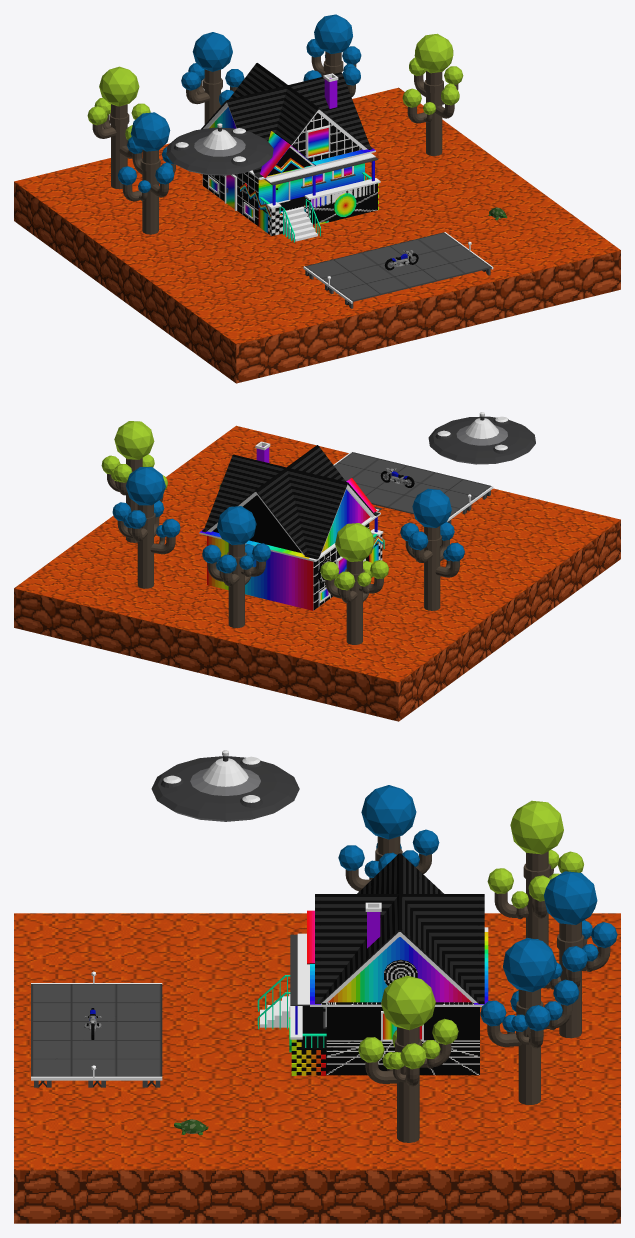
The picture shows the model from 3 angles, top to bottom: view 1: azimuth 30°, elevation 25°; view 2: azimuth 150°, elevation 25°; view 3: azimuth 270°, elevation 25°; orthographic projection. The views are drawn at different scales.
Visible parts, largest first — view 1: Cube.001, Cube.1320, OBJRANDOM_UFO; view 2: Cube.001, Cube.1320, OBJRANDOM_UFO; view 3: Cube.001, Cube.1320, OBJRANDOM_UFO.
Part boxes in pixels (x1,y1,x2,y2): Cube.001: (14,14,620,383); Cube.1320: (200,63,380,242); OBJRANDOM_UFO: (166,123,273,175); Cube.001: (14,421,620,721); Cube.1320: (199,441,384,610); OBJRANDOM_UFO: (428,412,535,464); Cube.001: (14,785,620,1223); Cube.1320: (257,853,488,1075); OBJRANDOM_UFO: (151,750,299,821).
Size of the model in its own units: 4000 by 1971 by 4000.
Materials: 31 (7 with a texture image).
